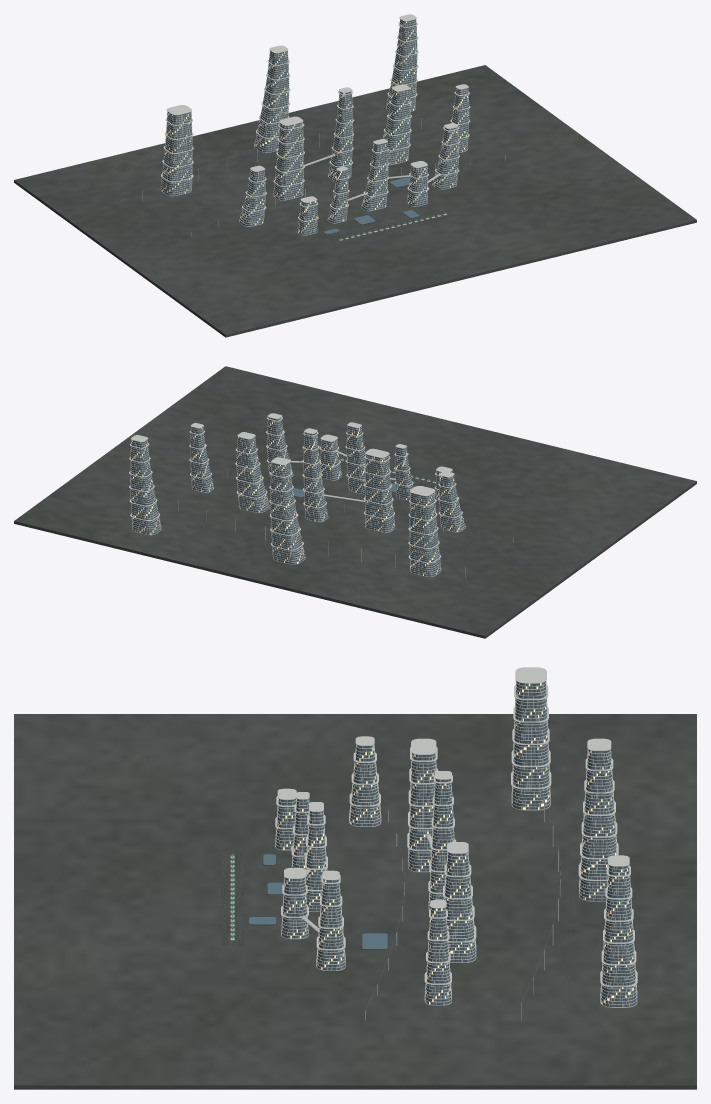
The model's file is environment.glb.
The picture shows the model from 3 angles, top to bottom: view 1: azimuth 30°, elevation 25°; view 2: azimuth 150°, elevation 25°; view 3: azimuth 270°, elevation 25°; orthographic projection. The views are drawn at different scales.
Parts seen in each view (by area): view 1: Static_honed limestone, Static_ivory architectural concrete, Static_solar glazing panel 1, Static_solar glazing panel 2, Static_solar glazing panel 0, Static_warm porcelain, Static_occupied warm interior; view 2: Static_honed limestone, Static_ivory architectural concrete, Static_solar glazing panel 1, Static_solar glazing panel 2, Static_solar glazing panel 0, Static_warm porcelain, Static_occupied warm interior; view 3: Static_honed limestone, Static_ivory architectural concrete, Static_solar glazing panel 1, Static_solar glazing panel 2, Static_solar glazing panel 0, Static_warm porcelain, Static_occupied warm interior, Static_deep blue solar glazing.
Boxes of the visible parts, box(x1,y1,x2,y2) form: Static_honed limestone: box(14, 65, 696, 337); Static_ivory architectural concrete: box(142, 19, 505, 240); Static_solar glazing panel 1: box(161, 19, 468, 235); Static_solar glazing panel 2: box(161, 19, 468, 235); Static_solar glazing panel 0: box(161, 19, 468, 235); Static_warm porcelain: box(161, 14, 470, 239); Static_occupied warm interior: box(162, 21, 468, 232); Static_honed limestone: box(14, 366, 696, 638); Static_ivory architectural concrete: box(130, 417, 513, 577); Static_solar glazing panel 1: box(130, 417, 465, 576); Static_solar glazing panel 2: box(130, 417, 465, 576); Static_solar glazing panel 0: box(130, 417, 465, 576); Static_warm porcelain: box(129, 413, 462, 563); Static_occupied warm interior: box(130, 421, 463, 575); Static_honed limestone: box(14, 714, 696, 1089); Static_ivory architectural concrete: box(230, 680, 637, 1020); Static_solar glazing panel 1: box(276, 681, 636, 1006); Static_solar glazing panel 2: box(277, 682, 636, 1006); Static_solar glazing panel 0: box(276, 681, 636, 1006); Static_warm porcelain: box(231, 667, 637, 987); Static_occupied warm interior: box(278, 683, 635, 1004); Static_deep blue solar glazing: box(249, 854, 387, 948).
Size of the model in its own units: 900 by 179 by 700.
13 materials, 3 textured.
